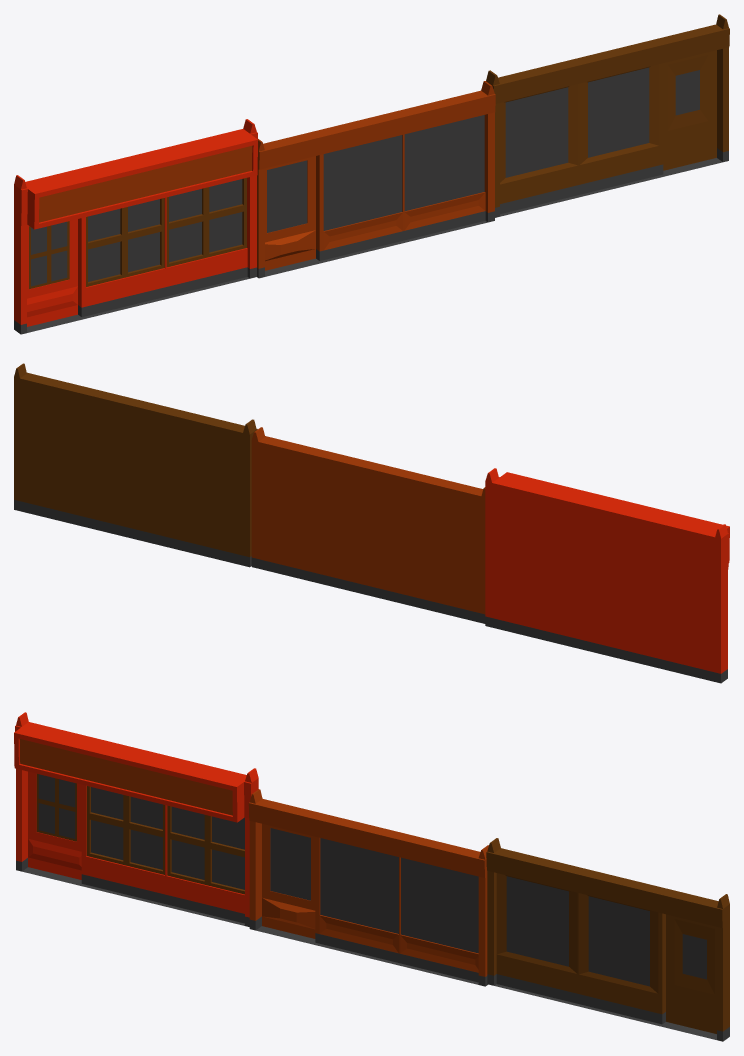
3 renders of one model, top to bottom at view 1: azimuth 30°, elevation 25°; view 2: azimuth 150°, elevation 25°; view 3: azimuth 330°, elevation 25°, orthographic.
Visible parts, largest first — view 1: Cube.001; view 2: Cube.001; view 3: Cube.001.
Part boxes in pixels (x1,y1,x2,y2): Cube.001: [14, 14, 729, 334]; Cube.001: [14, 363, 729, 683]; Cube.001: [14, 712, 729, 1041].
Size of the model in its own units: 1168 by 242 by 42.52.
